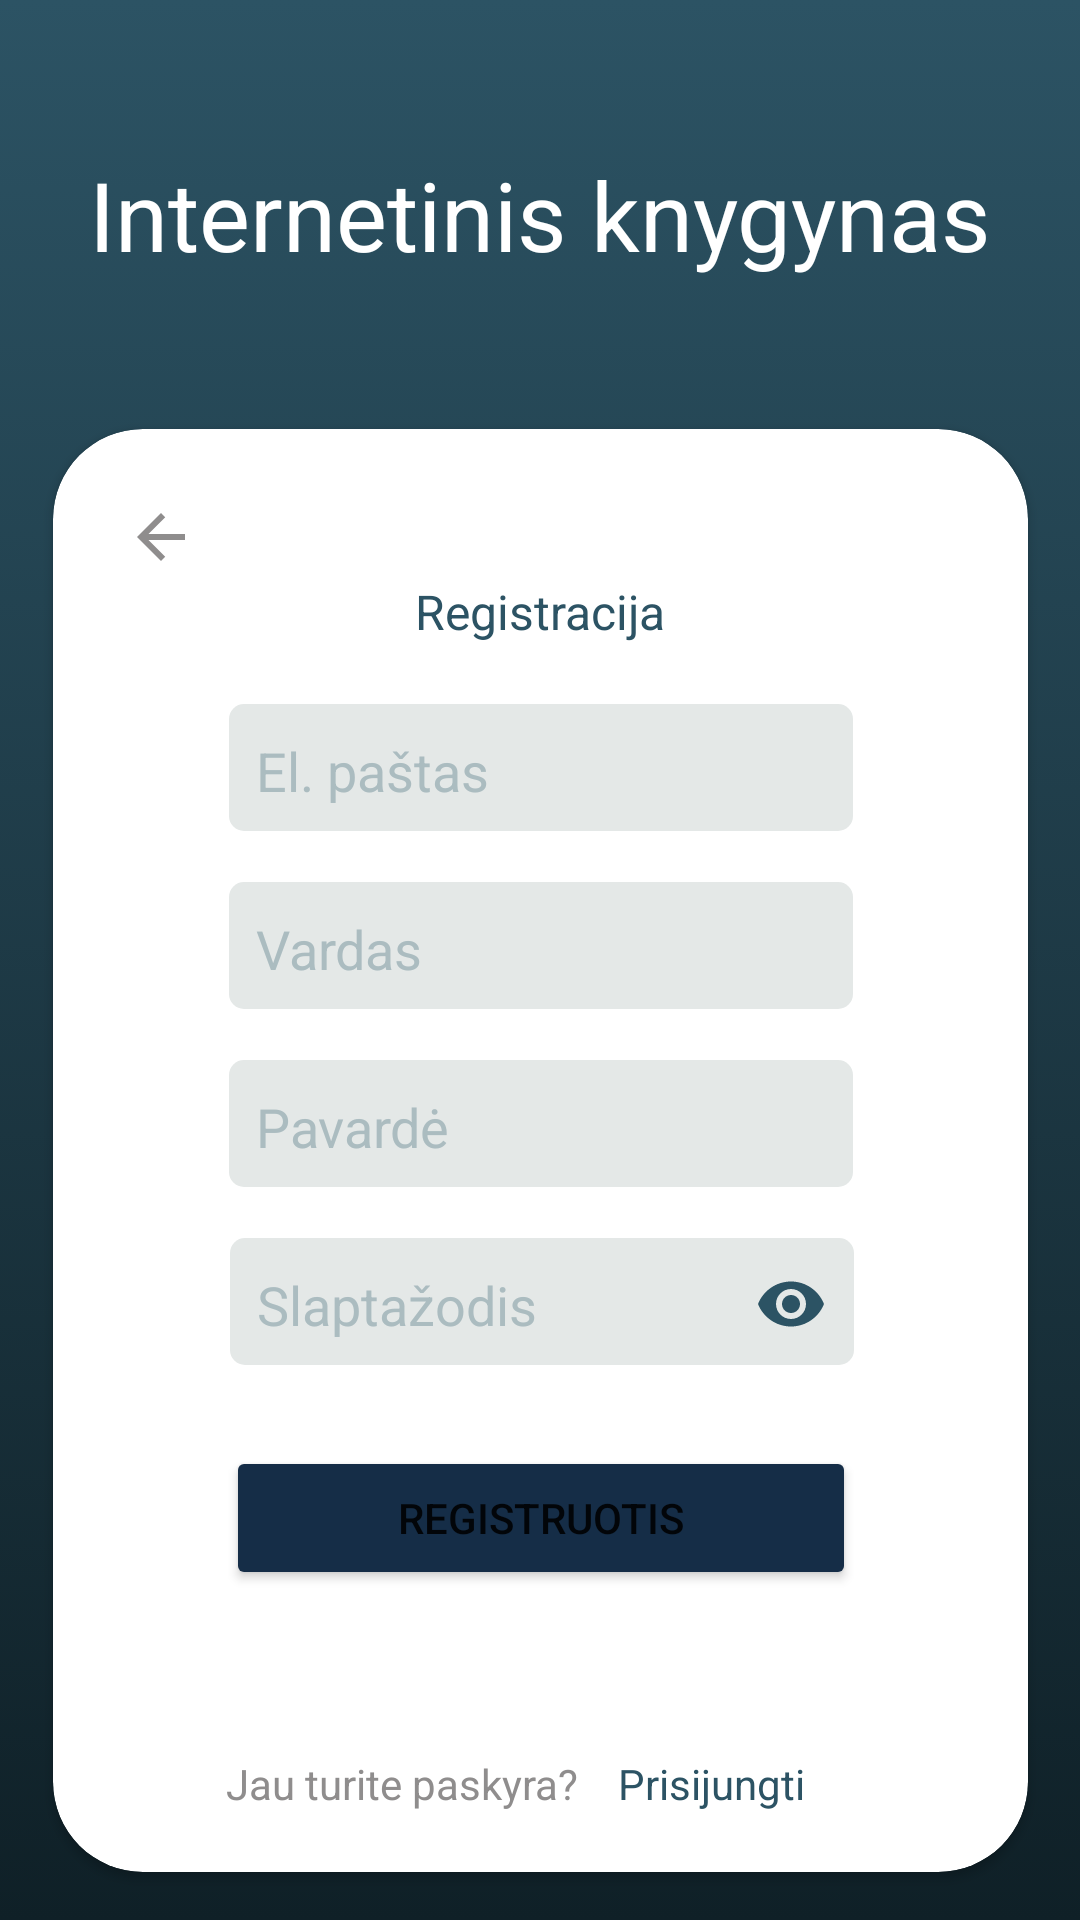

Point at icon controls on the screen. Image size 1080 × 1920, points as (x=x, y=y).
arrow back: (x=161, y=537)
